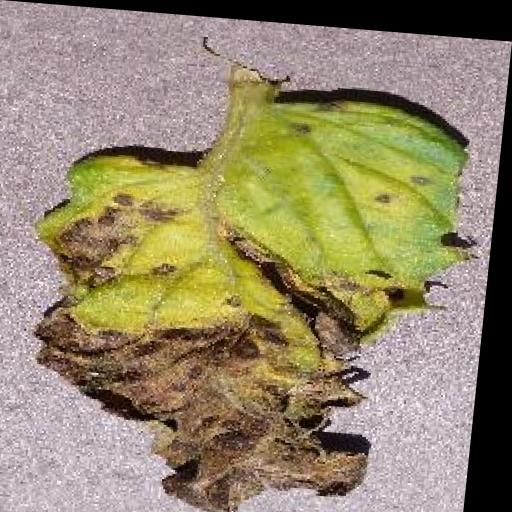Septoria: (18, 75, 474, 512)
